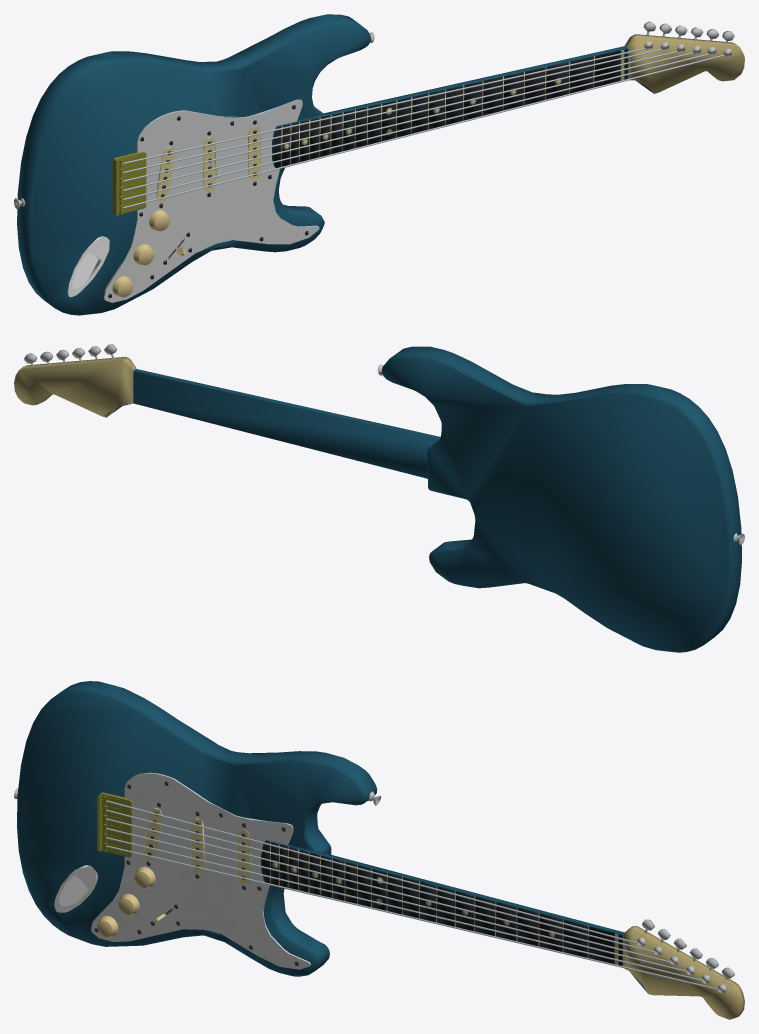
File: fender_stratocaster_guitar_blue.glb
3 renders of one model, top to bottom at view 1: azimuth 30°, elevation 25°; view 2: azimuth 150°, elevation 25°; view 3: azimuth 330°, elevation 25°, orthographic.
Parts seen in each view (by area): view 1: Guitar_Guitar_0, Buttons_Buttons_0; view 2: Guitar_Guitar_0; view 3: Guitar_Guitar_0, Buttons_Buttons_0.
Boxes of the visible parts, x1=… form: Guitar_Guitar_0: x1=14, y1=14, x2=744, y2=315; Buttons_Buttons_0: x1=112, y1=210, x2=185, y2=297; Guitar_Guitar_0: x1=14, y1=344, x2=744, y2=652; Guitar_Guitar_0: x1=14, y1=681, x2=744, y2=1019; Buttons_Buttons_0: x1=97, y1=866, x2=165, y2=937.
Size of the model in its own units: 4.99 by 1.65 by 0.2582.
2 materials, 1 textured.
